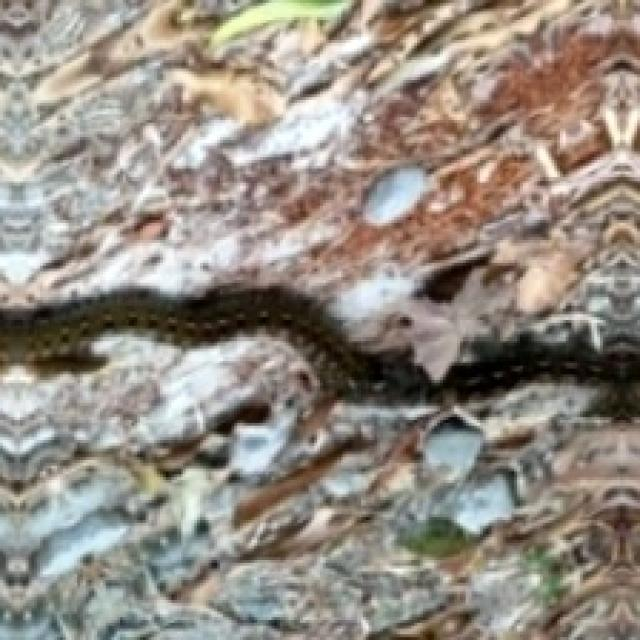reticulated python: (0, 286, 637, 414), (0, 289, 386, 391)
